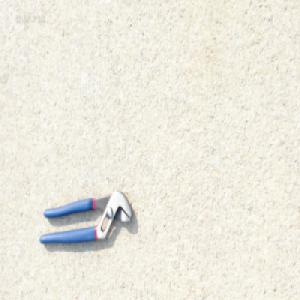Pliers: (38, 188, 134, 247)
